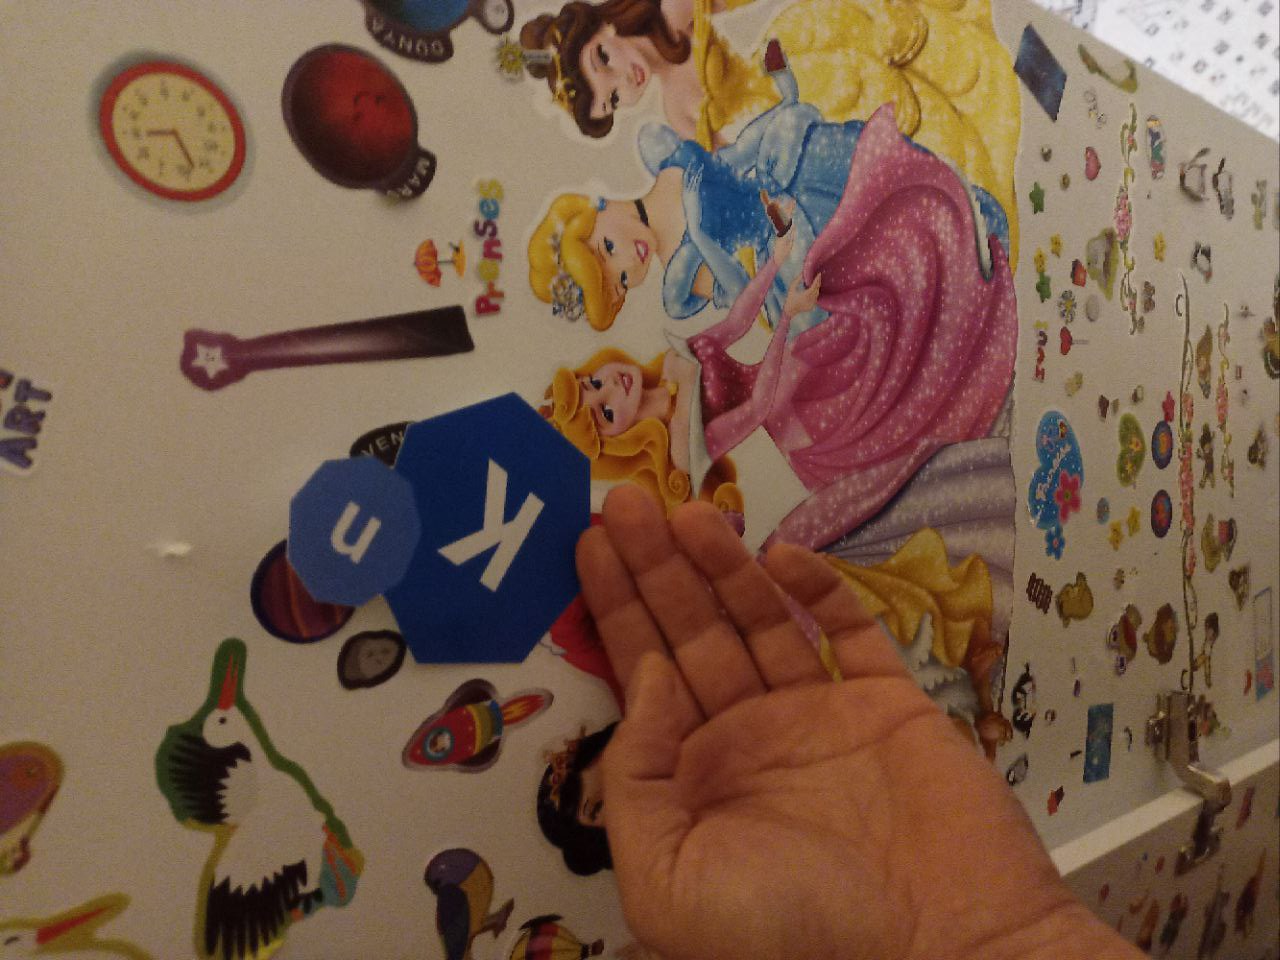knative: (289, 391, 592, 666)
